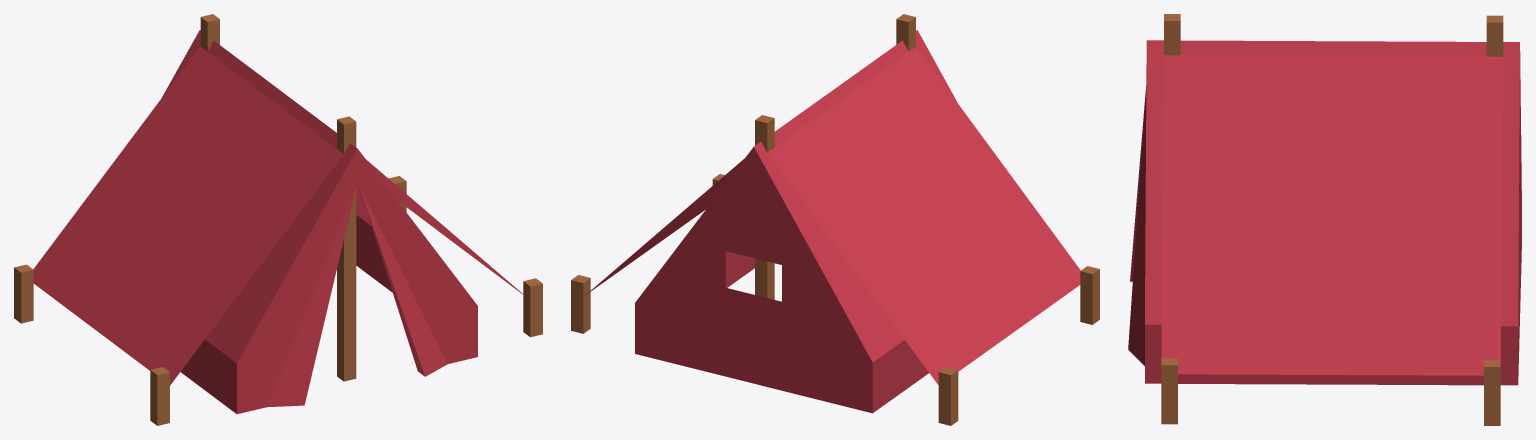
The model's file is tentLarge.glb.
3 views of the same model, side by side, from view 1: azimuth 30°, elevation 25°; view 2: azimuth 150°, elevation 25°; view 3: azimuth 270°, elevation 25° (orthographic). The views are drawn at different scales.
Visible parts, largest first — view 1: tentLarge; view 2: tentLarge; view 3: tentLarge.
Boxes of the visible parts, x1,y1,x2,y2 form: tentLarge: (14, 14, 542, 425); tentLarge: (571, 14, 1099, 425); tentLarge: (1128, 14, 1521, 425).
Size of the model in its own units: 1.59 by 1.01 by 1.21.
